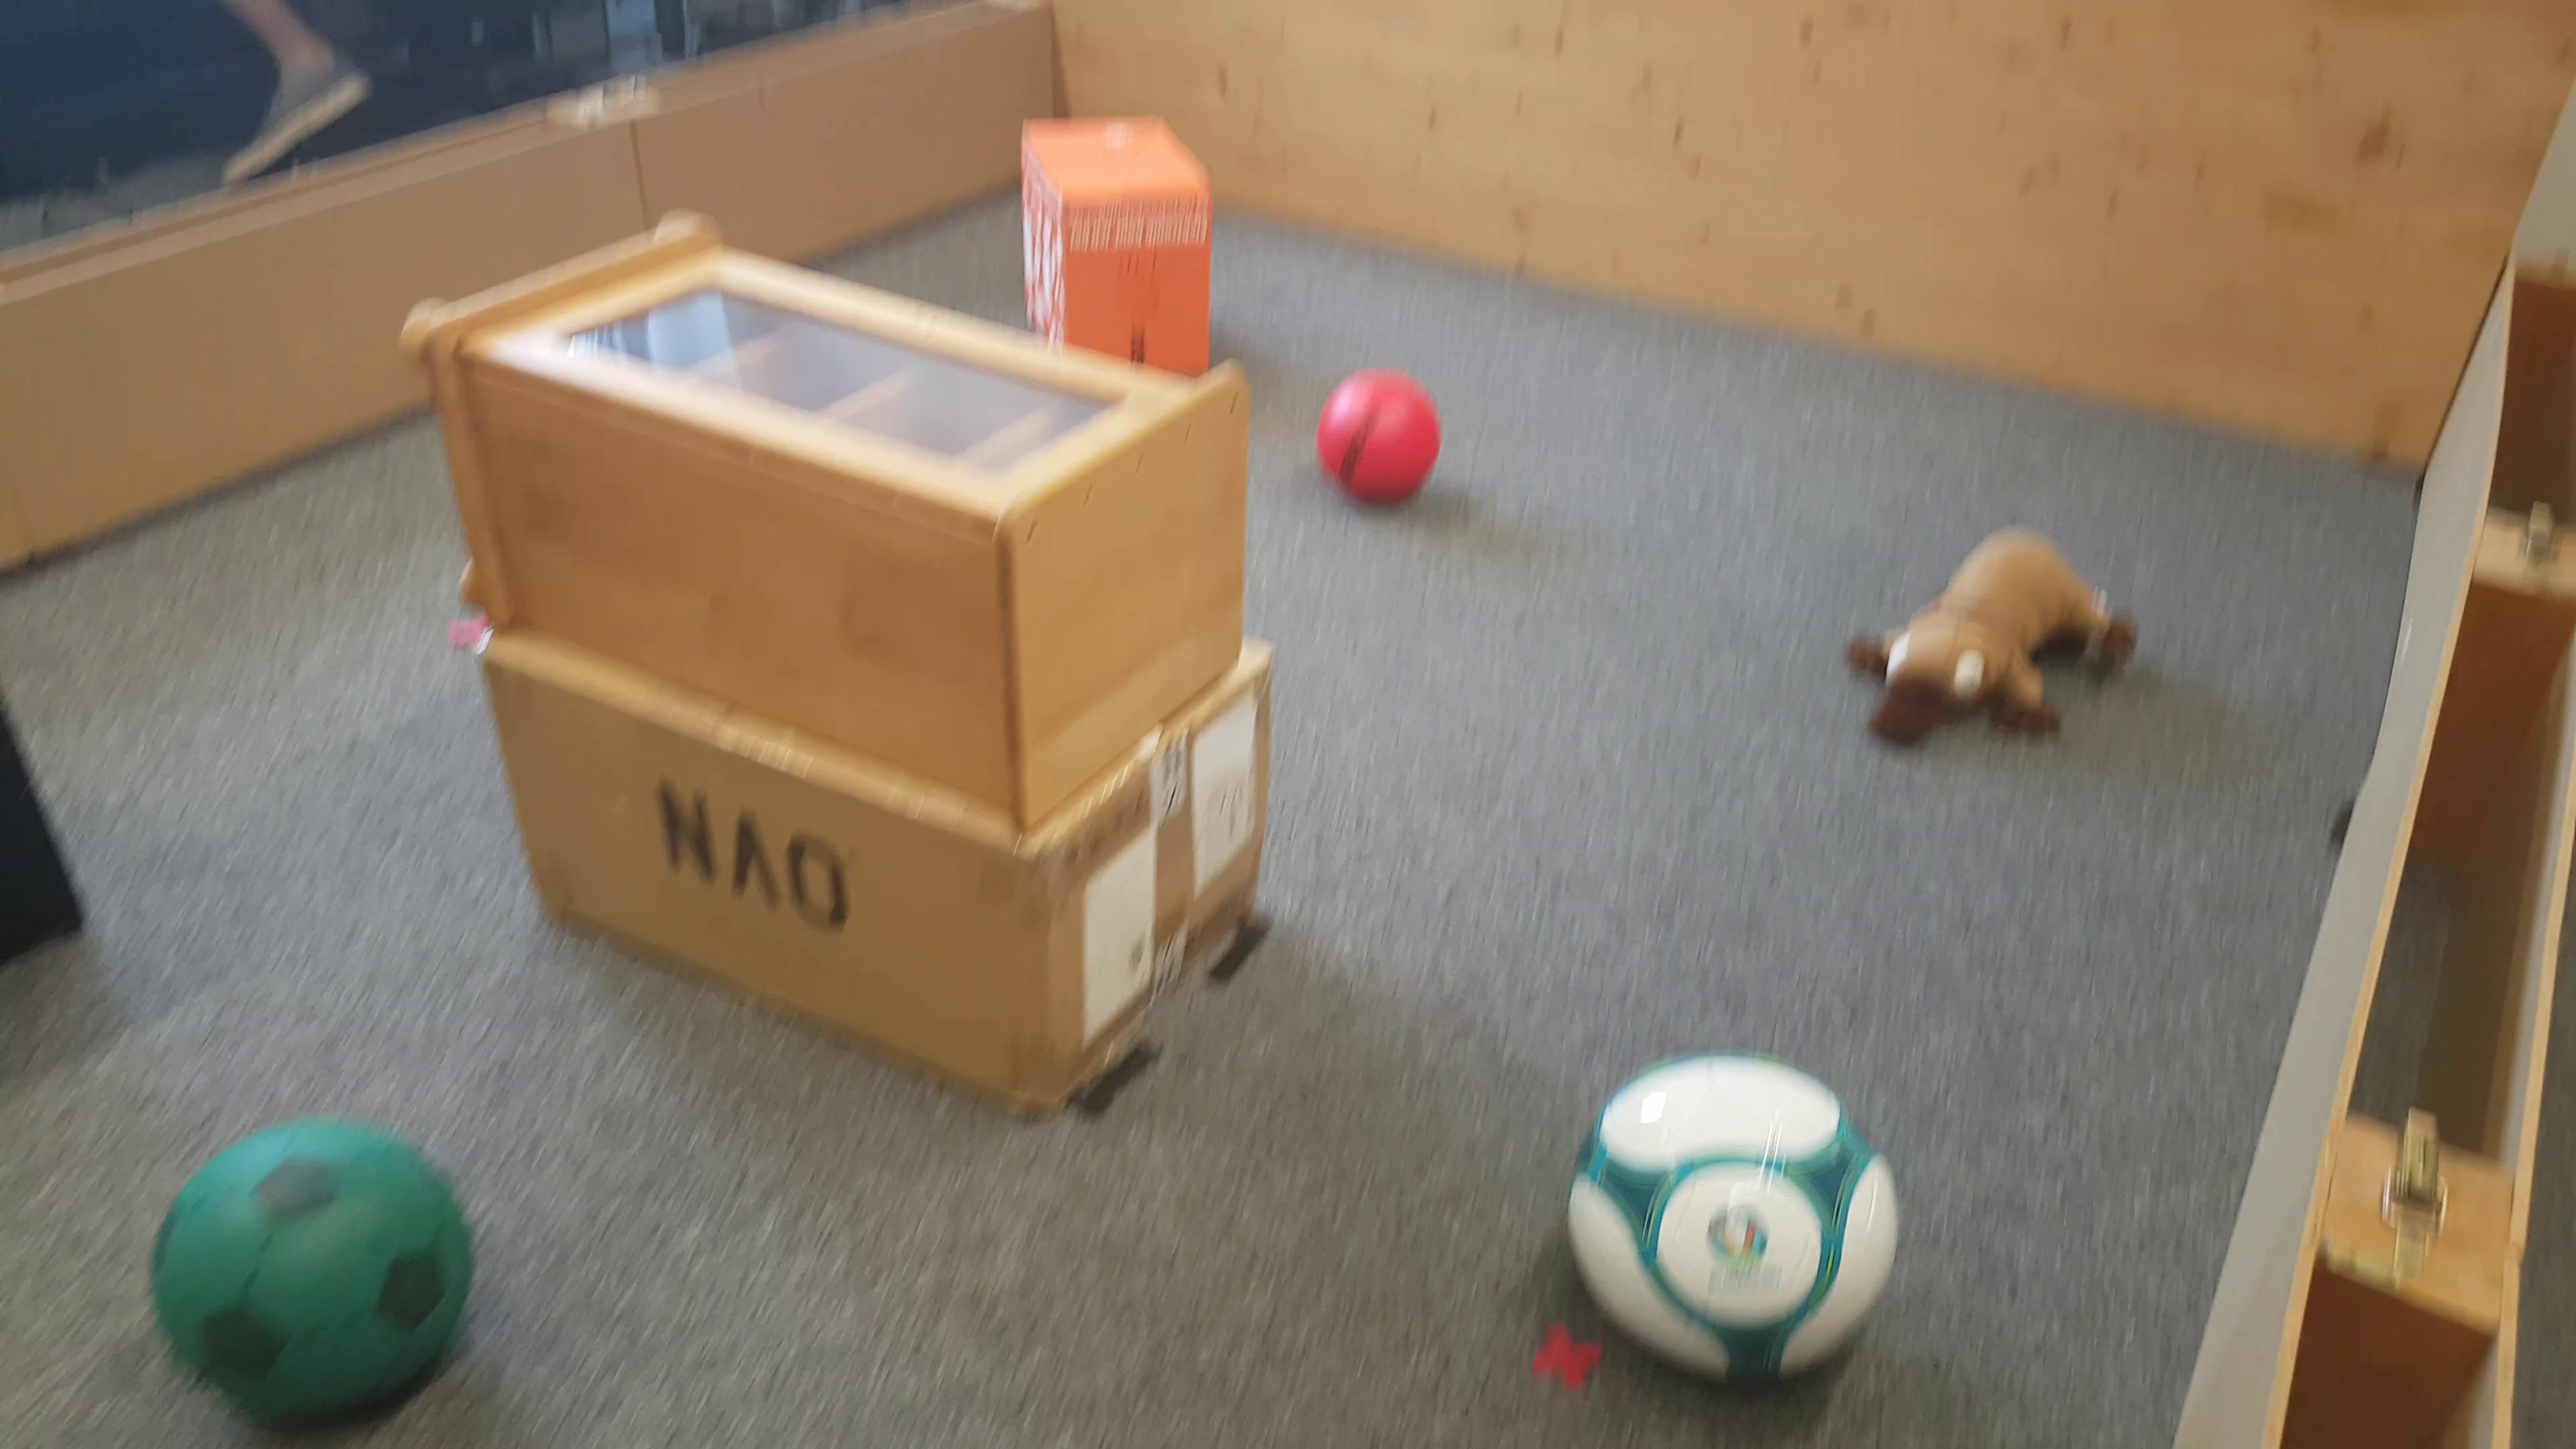grasp: (1849, 527, 2135, 755)
kick: (1571, 1044, 1905, 1401), (150, 1115, 472, 1430), (1318, 364, 1447, 515)
push: (1021, 120, 1210, 324)
